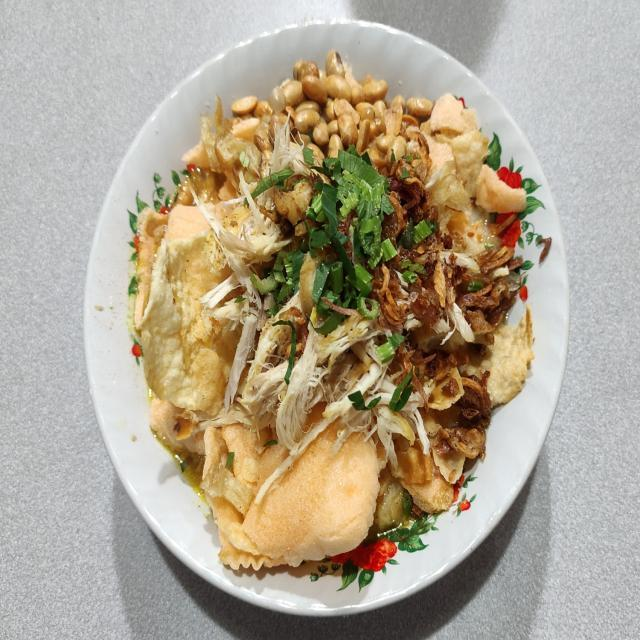bubur ayam: (131, 51, 534, 567)
mangkuk: (82, 19, 562, 636)
